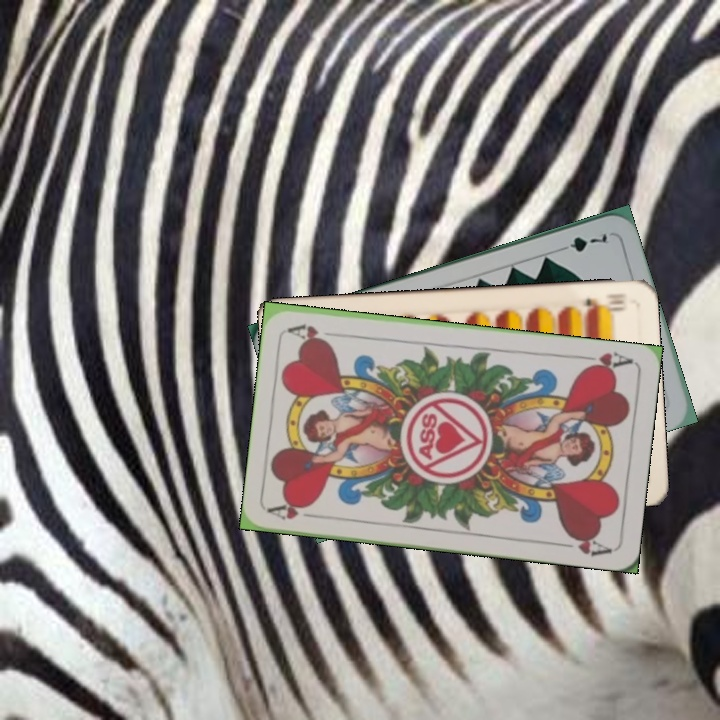E10: (581, 294, 629, 315)
G7: (554, 229, 610, 255)
HA: (575, 348, 635, 375), (266, 498, 325, 523)
